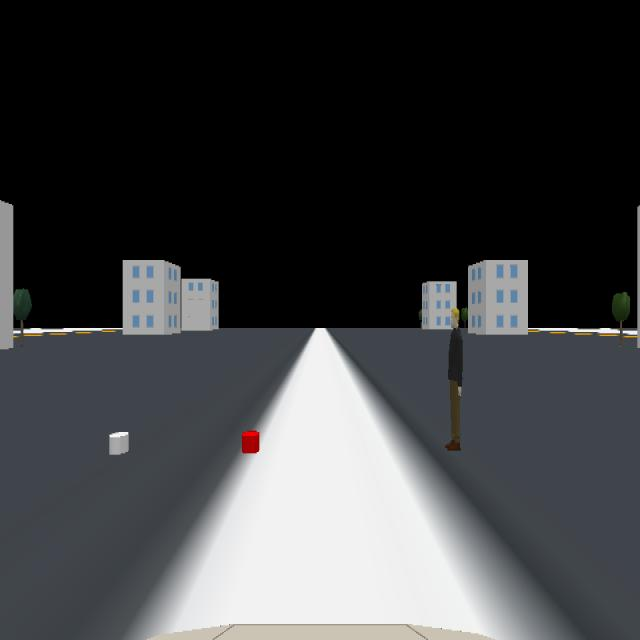human: (444, 306, 462, 451)
